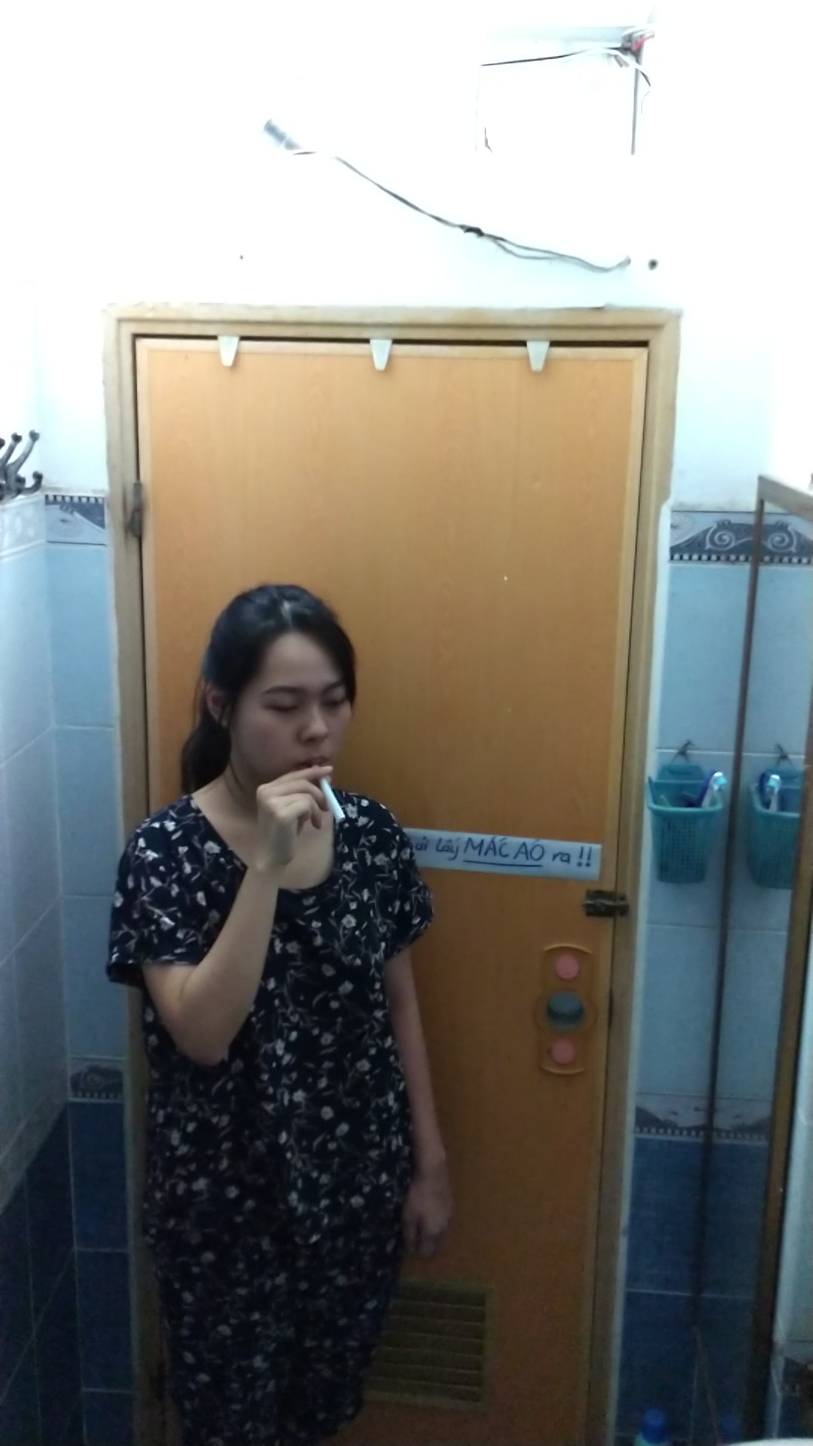cigarette: (318, 778, 349, 828)
person: (105, 581, 456, 1441)
